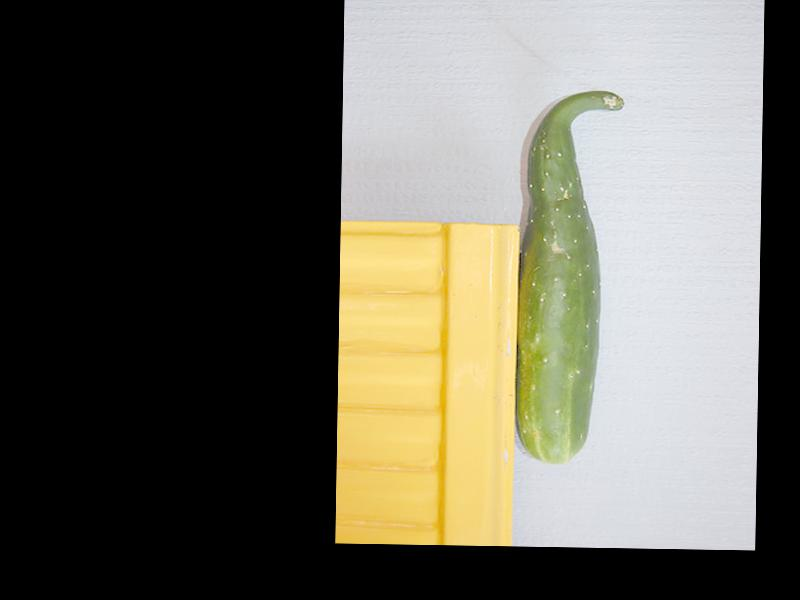Cucumber: (514, 88, 625, 462)
